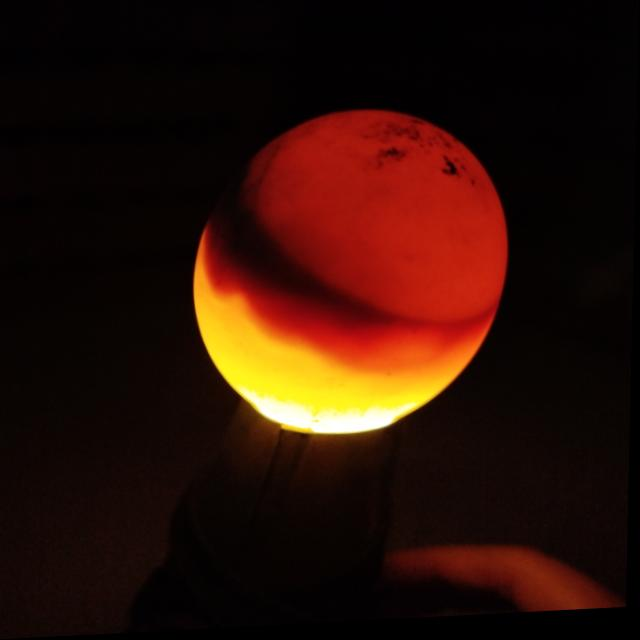Area Infectada: (206, 140, 424, 329)
